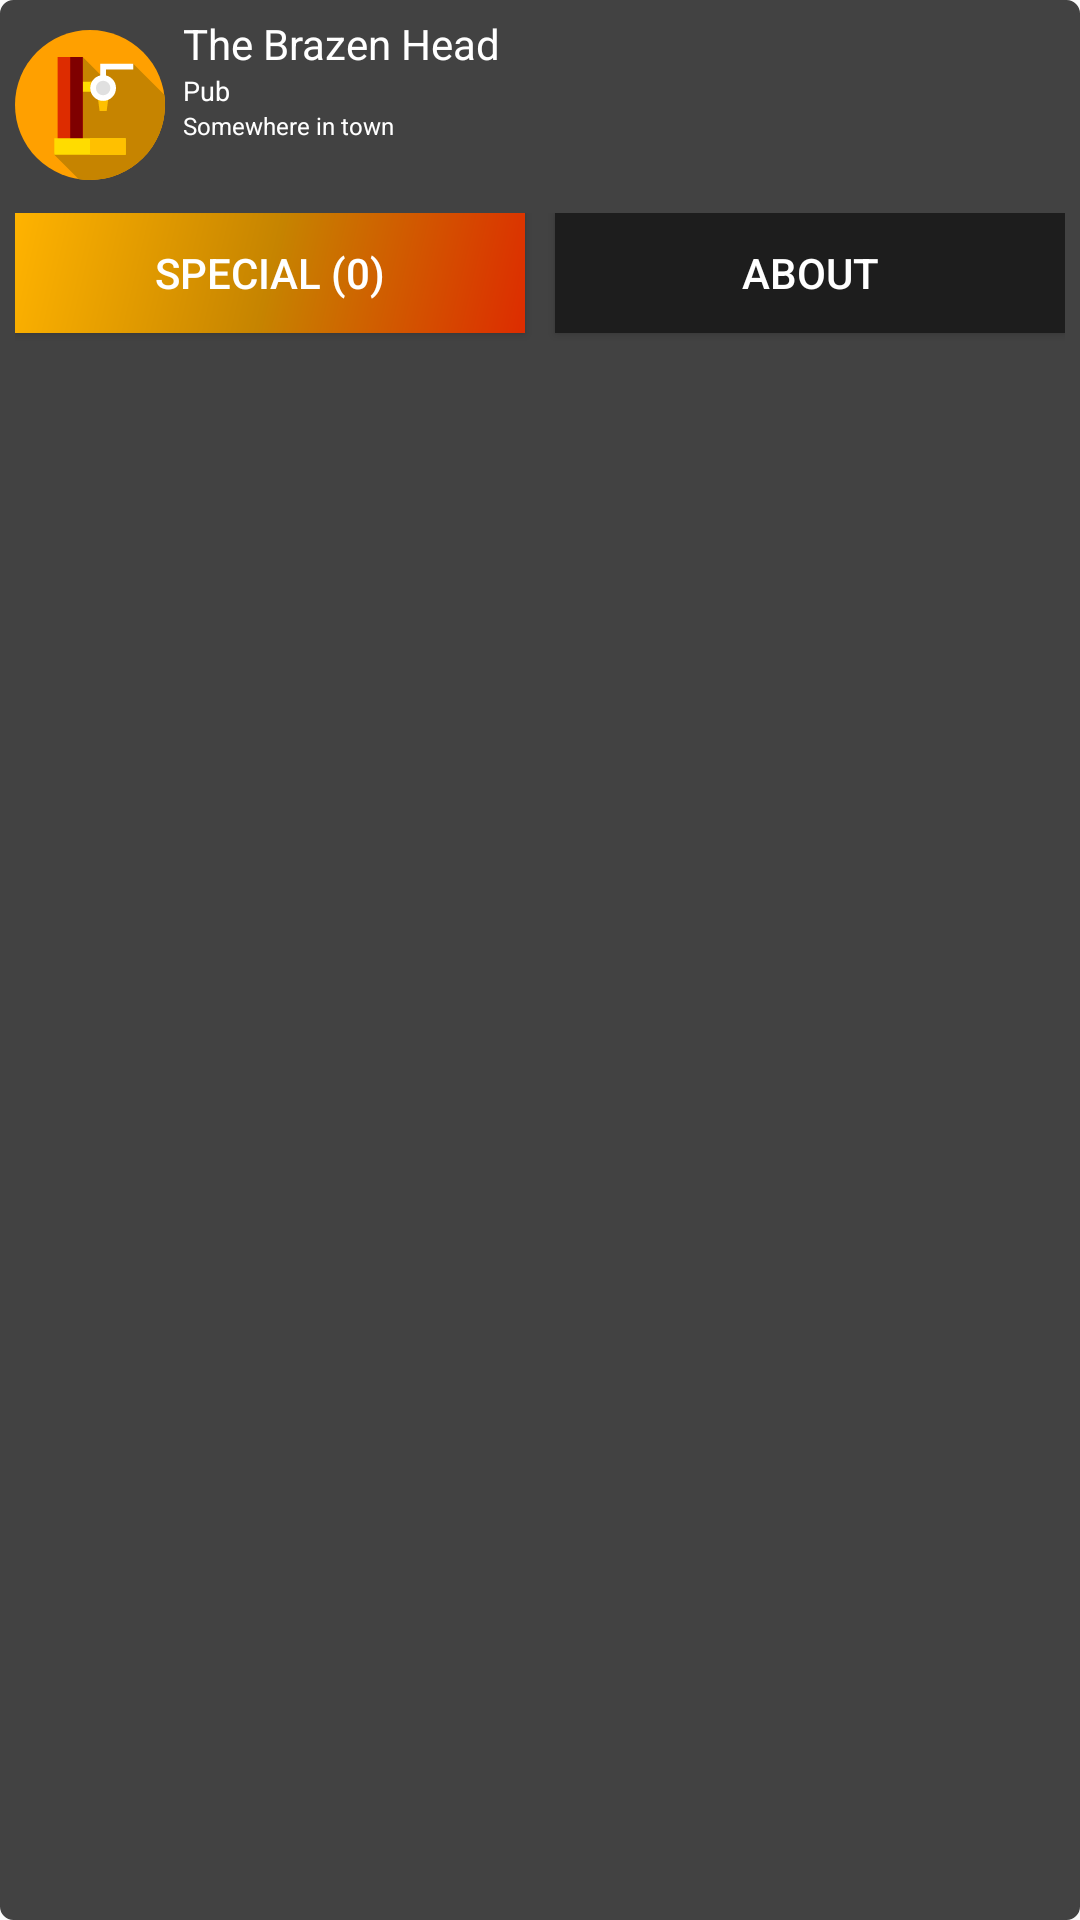

Named icons in this screenshot (1080px x 1920px) and their bounding boxes, (x1, y1, x2, y2):
beer tap square: (15, 30, 165, 180)
